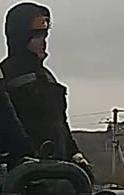gloves: (71, 147, 96, 183)
helmet: (24, 11, 52, 33)
vest: (0, 60, 71, 166)
